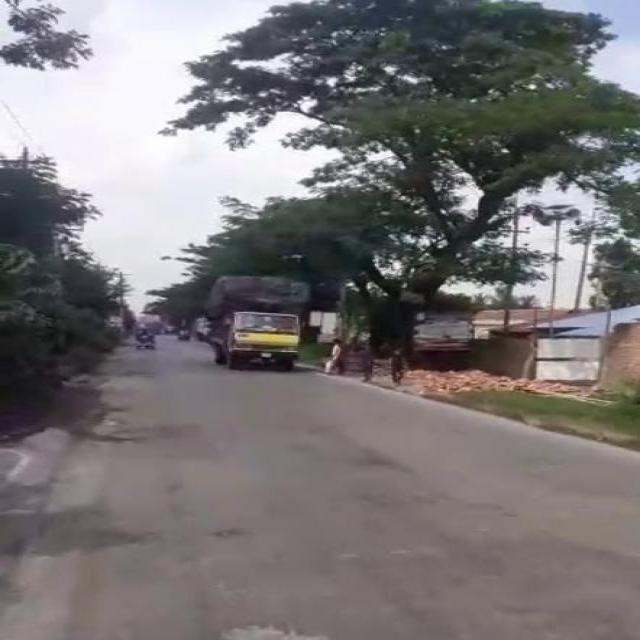truck: (204, 273, 309, 367)
